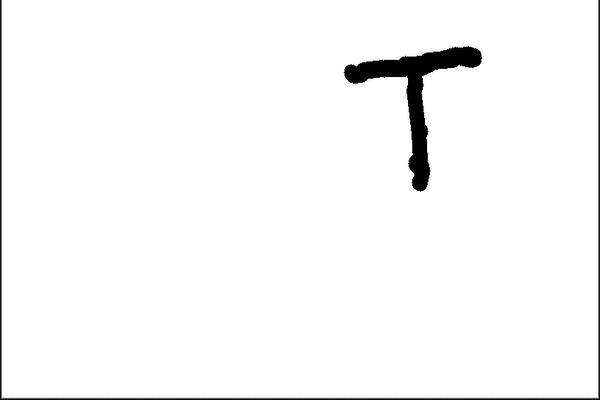T: (333, 43, 496, 191)
